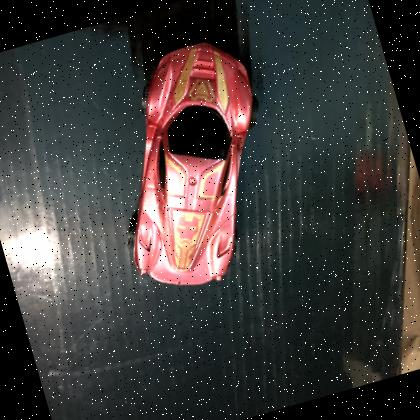Car: (80, 29, 304, 305)
